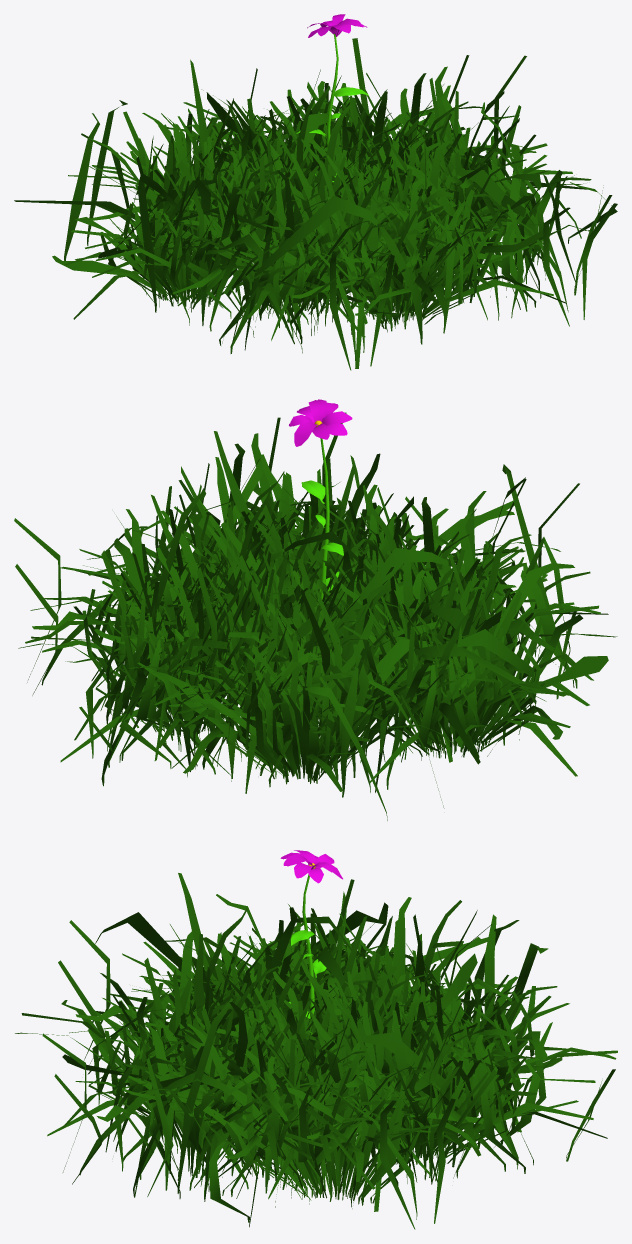
Rendered from Player_test4.fbx.
The picture shows the model from 3 angles, top to bottom: view 1: azimuth 30°, elevation 25°; view 2: azimuth 150°, elevation 25°; view 3: azimuth 270°, elevation 25°; orthographic projection. The views are drawn at different scales.
Parts seen in each view (by area): view 1: Player; view 2: Player; view 3: Player.
Boxes of the visible parts, x1,y1,x2,y2 form: Player: (14,14,617,370); Player: (14,399,617,820); Player: (15,850,617,1229).
Bounding box in the file's own units: 167 × 86.23 × 173.
